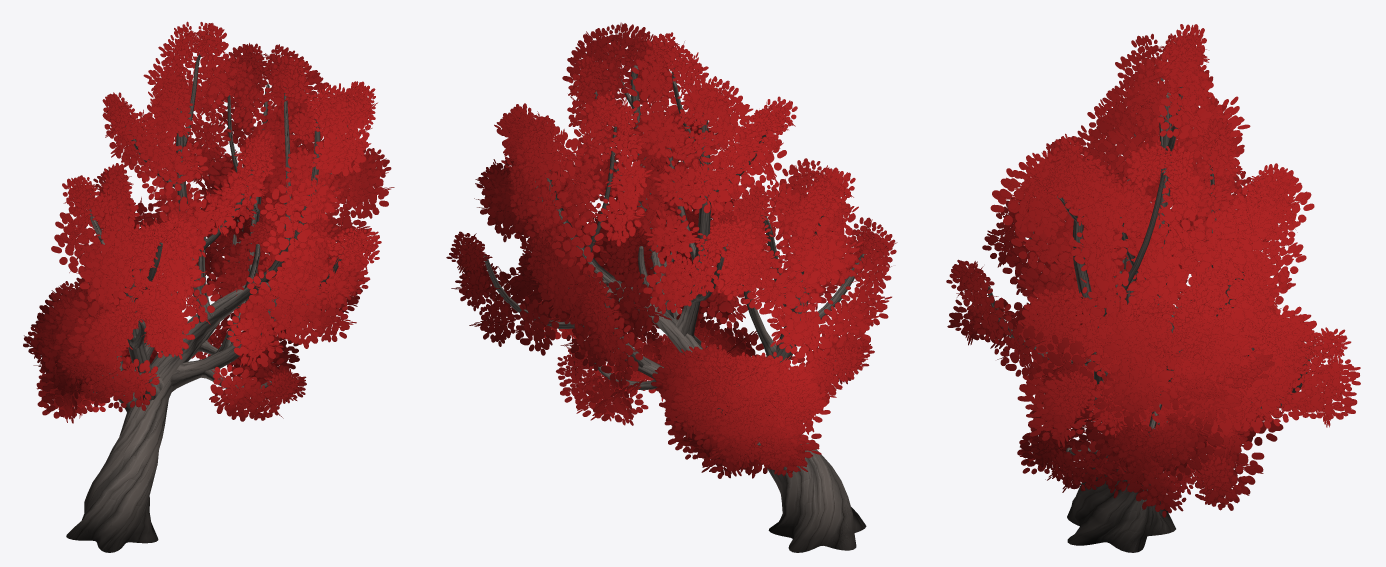
File: TwistedTree_1.gltf
The picture shows the model from 3 angles, left to right: view 1: azimuth 30°, elevation 25°; view 2: azimuth 150°, elevation 25°; view 3: azimuth 270°, elevation 25°; orthographic projection. The views are drawn at different scales.
Visible parts, largest first — view 1: TwistedTree_1; view 2: TwistedTree_1; view 3: TwistedTree_1.
Part boxes in pixels (bbox=[...]): TwistedTree_1: bbox=[23, 21, 394, 552]; TwistedTree_1: bbox=[446, 22, 897, 552]; TwistedTree_1: bbox=[946, 24, 1360, 552].
Size of the model in its own units: 13.52 by 16.73 by 11.55.
2 materials, 2 textured.
